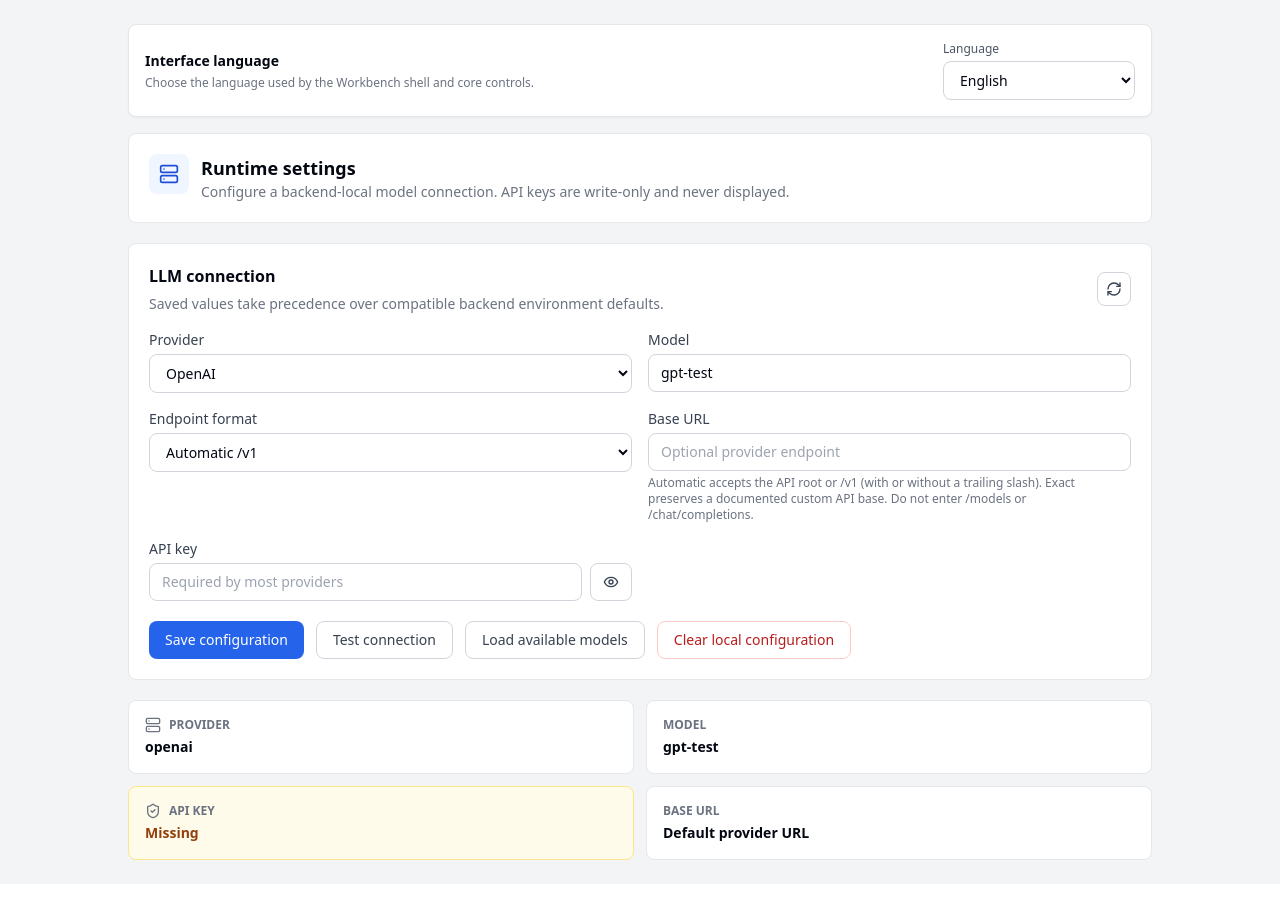
Test: SettingsView › shows an API key only while the current field is toggled
Expected: the heading "Runtime settings" is shown, [201,156,356,180]
Type "current-value" into the password field labelled "API key" at (366, 582), box [149,563,582,601]
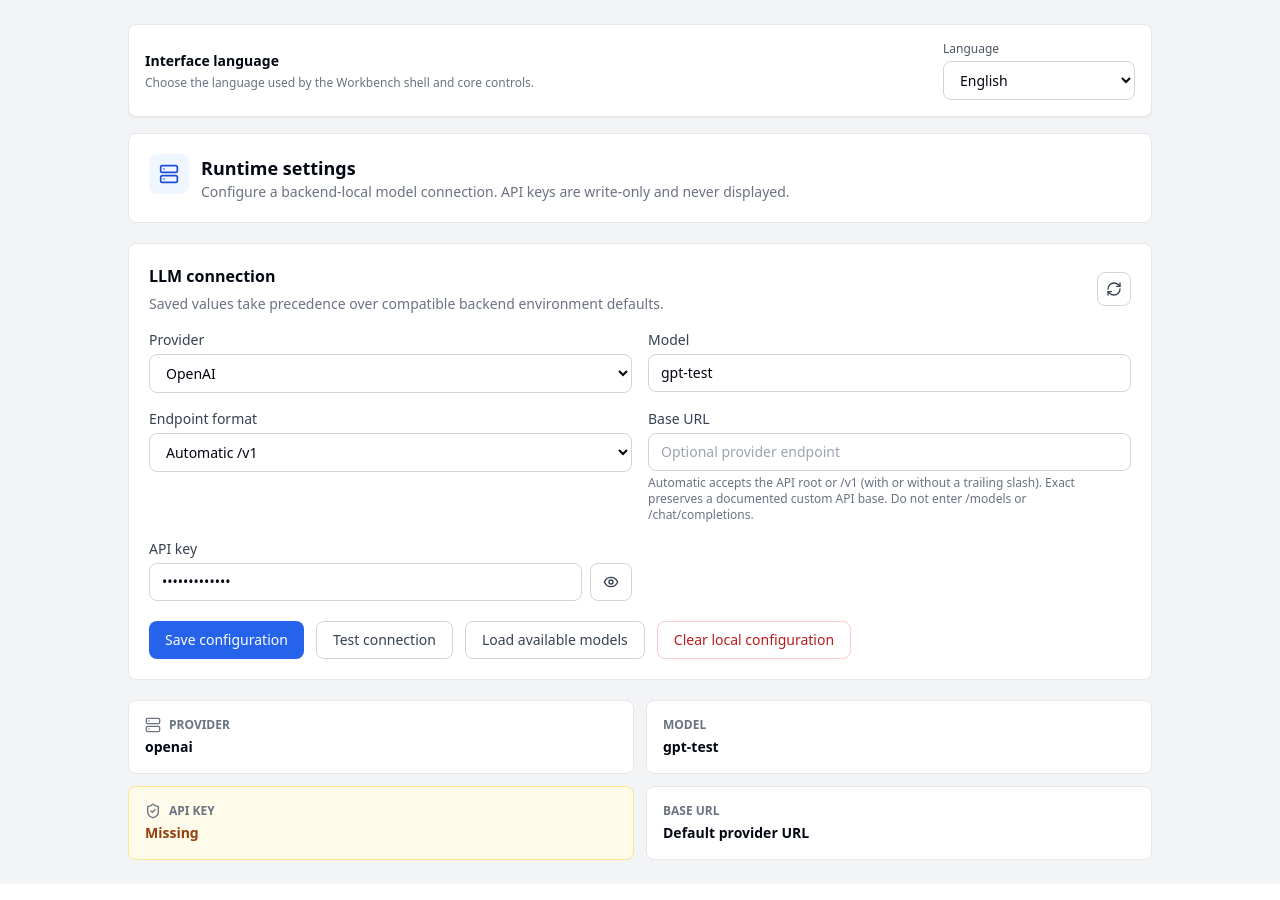
Click the button named "Show API key" at (611, 582), box [590,563,632,601]
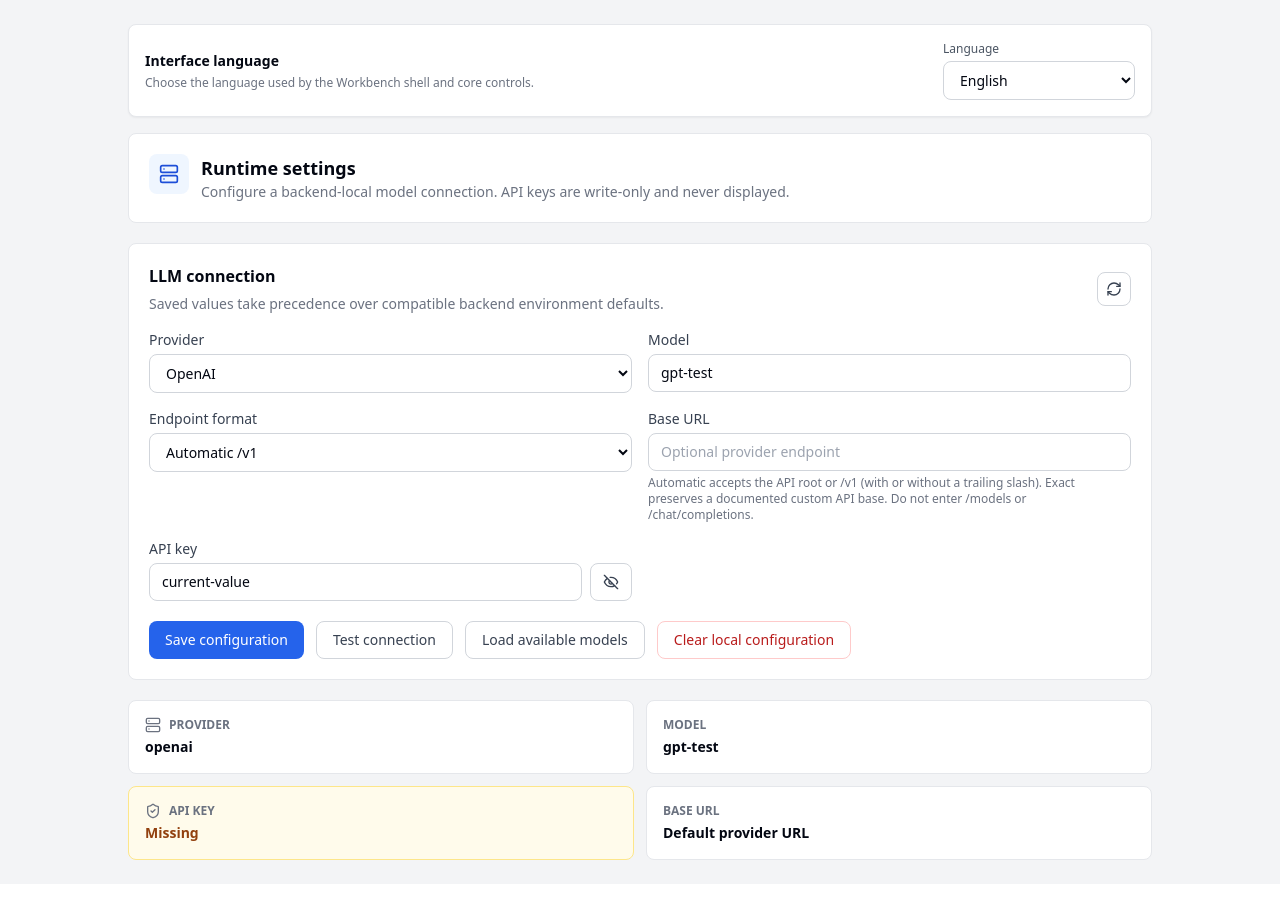
Now the field labelled "API key" shows its text, box [149,563,582,601]
